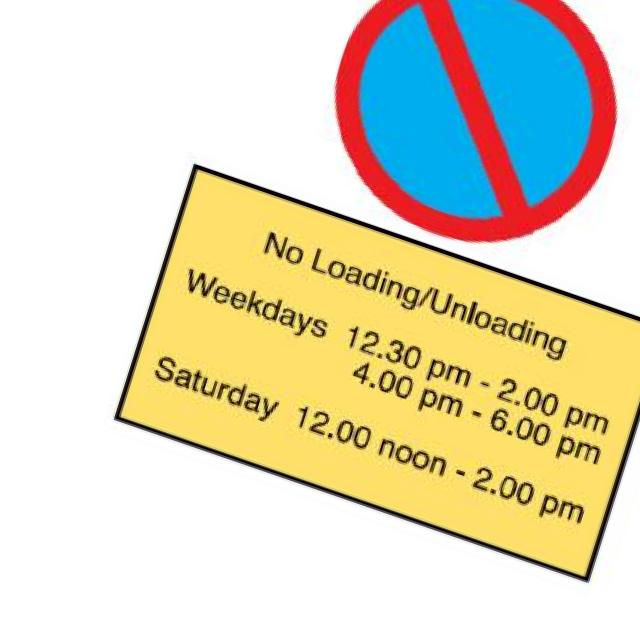forb_stopping: (337, 0, 619, 244)
